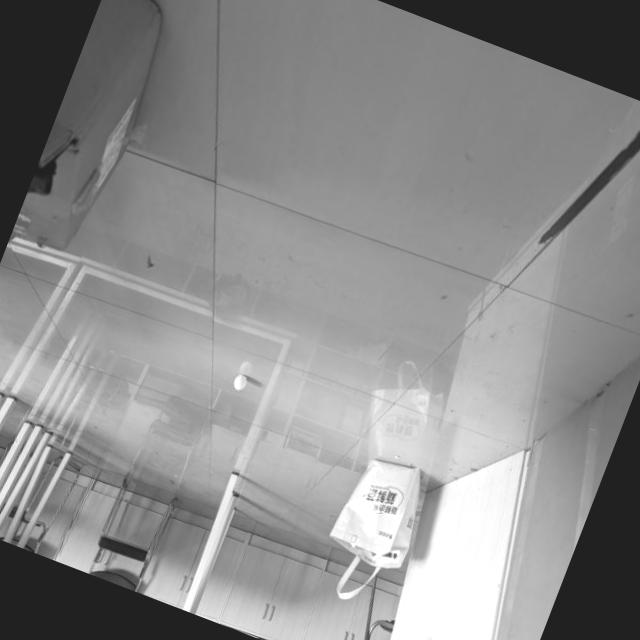ping-pong-ball: (231, 372, 248, 392)
